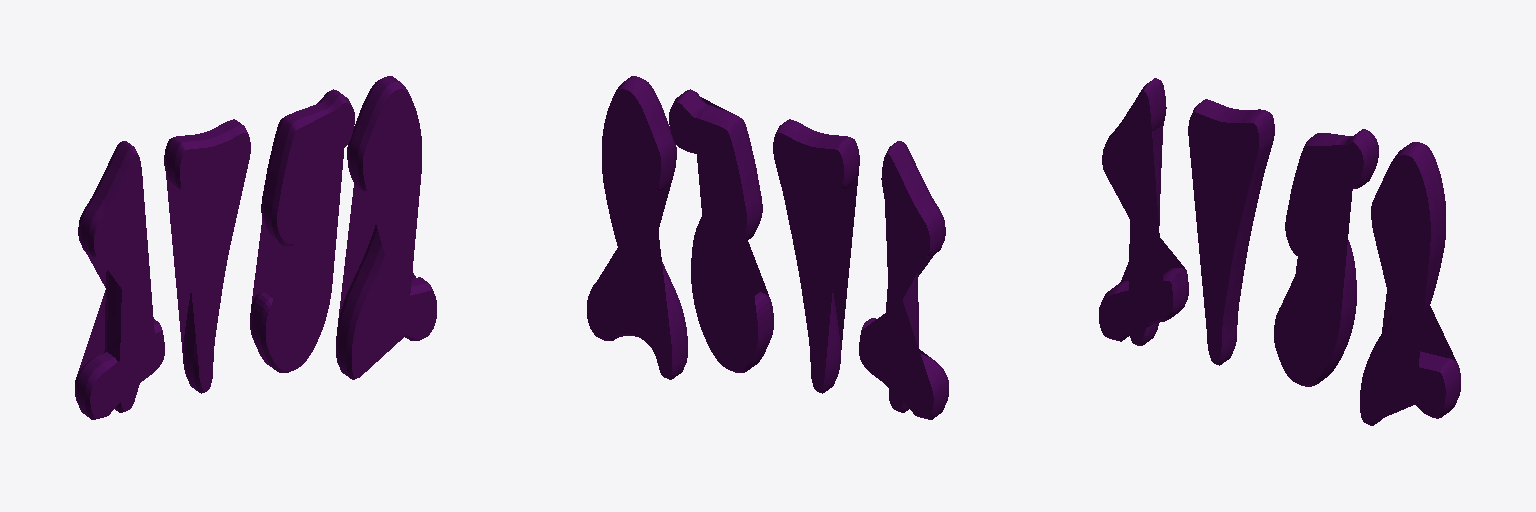
The model's file is address.obj.
The picture shows the model from 3 angles: view 1: azimuth 30°, elevation 25°; view 2: azimuth 150°, elevation 25°; view 3: azimuth 330°, elevation 25°; orthographic projection.
Visible parts, largest first — view 1: polySurface1; view 2: polySurface1; view 3: polySurface1.
Boxes of the visible parts, <box> form: polySurface1: <box>75,76,436,419</box>; polySurface1: <box>587,76,948,419</box>; polySurface1: <box>1099,78,1460,425</box>.
Size of the model in its own units: 0.2421 by 0.1901 by 0.0188.